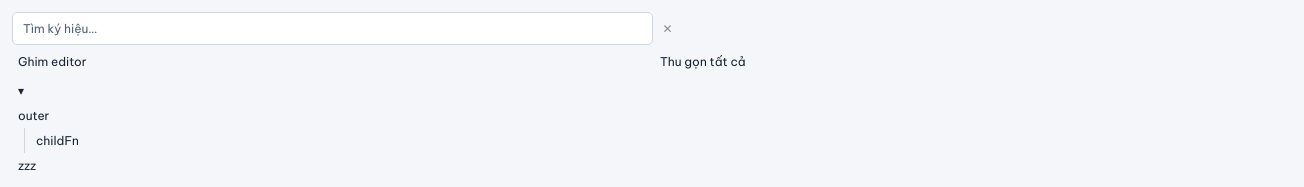
OutlinePanel › collapses and expands every symbol
This screenshot has width=1304, height=187.
Click the button "Thu gọn tất cả" at x=703, y=62, box [654,49,1292,74]
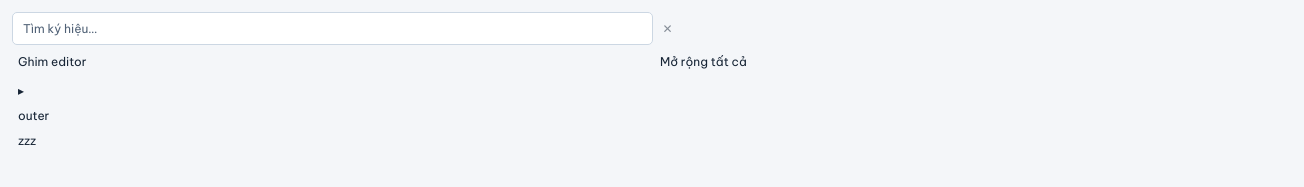
Check: the button "childFn" is gone
Click the button "Mở rộng tất cả" at x=703, y=62, box [654,49,1292,74]
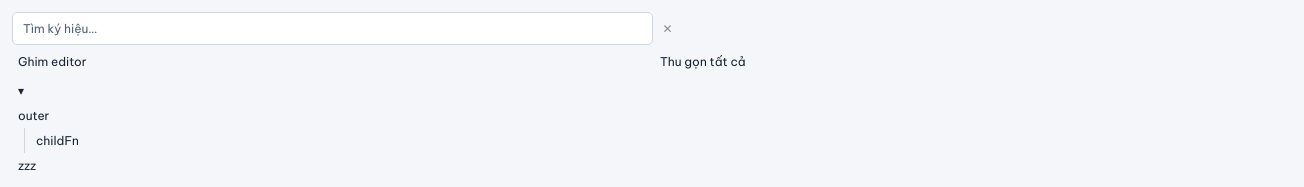
Check: the button "childFn" is shown, box [30,128,1292,153]
